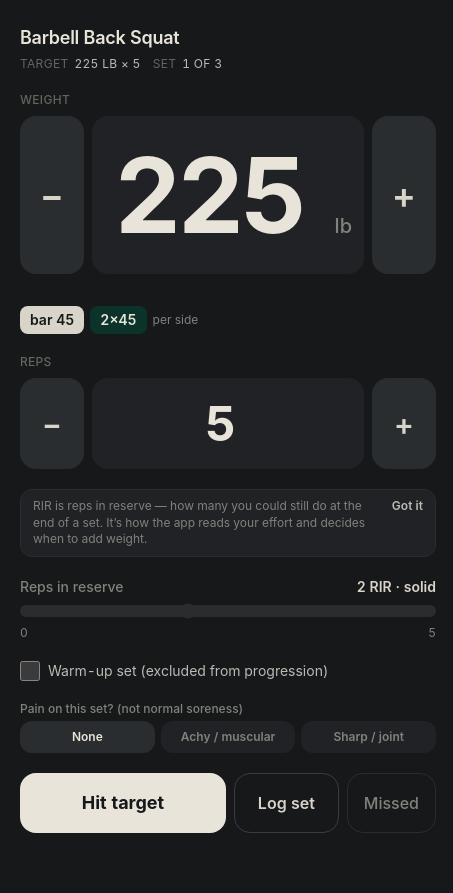
Test: LogSet screen › names a hit-target confirmation distinctly
Click the button "Hit target" at x=123, y=802, box [20,772,226,832]
(page scrolled)
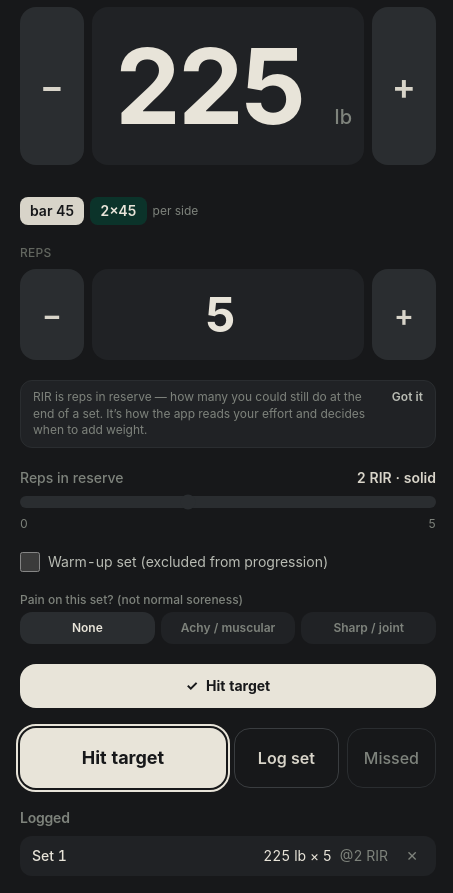
Result: the message shows "Hit target" at [206,676,270,694]
